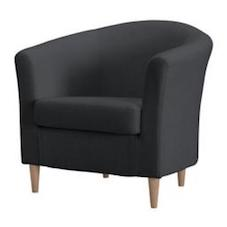chair: (6, 7, 211, 209)
